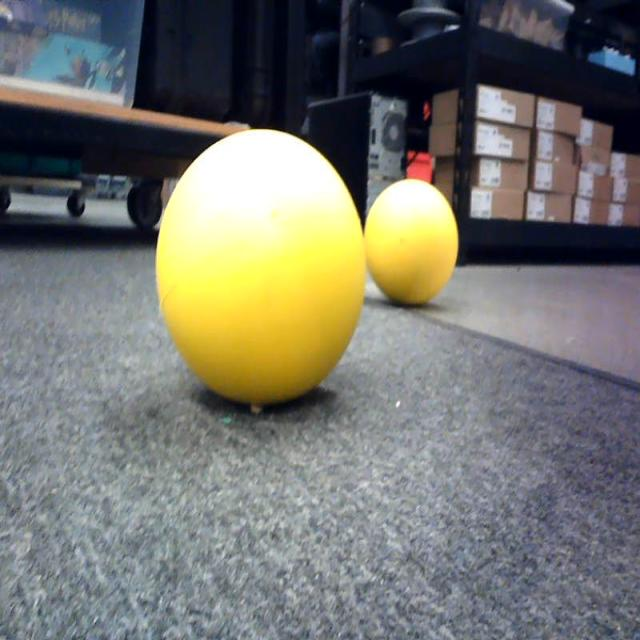Fuel: (156, 129, 366, 405), (365, 179, 458, 306)
